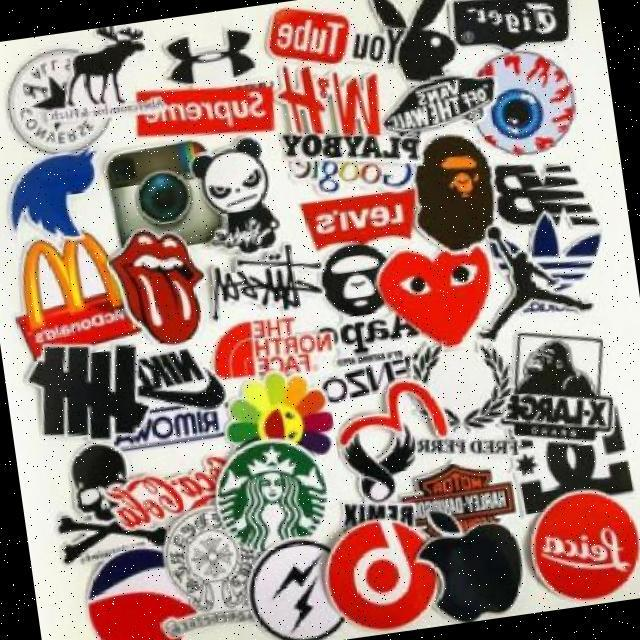Nike: (133, 340, 229, 418)
